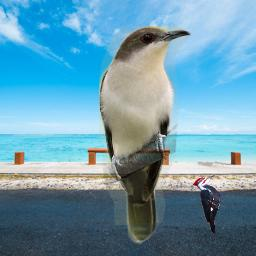Cuckoo: (99, 26, 192, 245)
Woodpecker: (192, 175, 224, 233)
